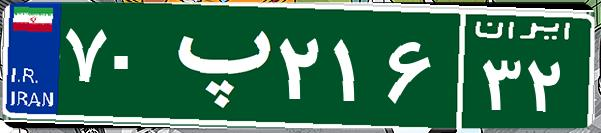0: (110, 28, 158, 105)
1: (330, 28, 385, 110)
2: (273, 28, 330, 110), (525, 38, 570, 115)
3: (475, 38, 525, 113)
6: (385, 28, 445, 110)
7: (57, 26, 110, 107)
پ: (158, 15, 273, 115)
